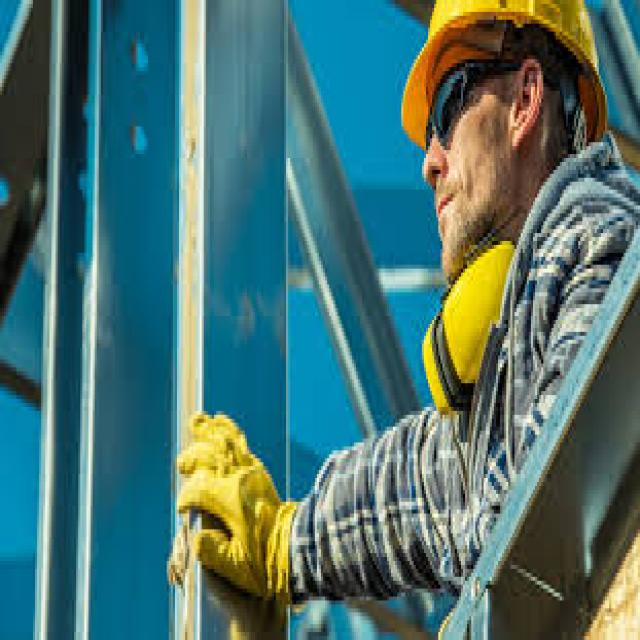Safety-Helmet: (397, 1, 615, 154)
